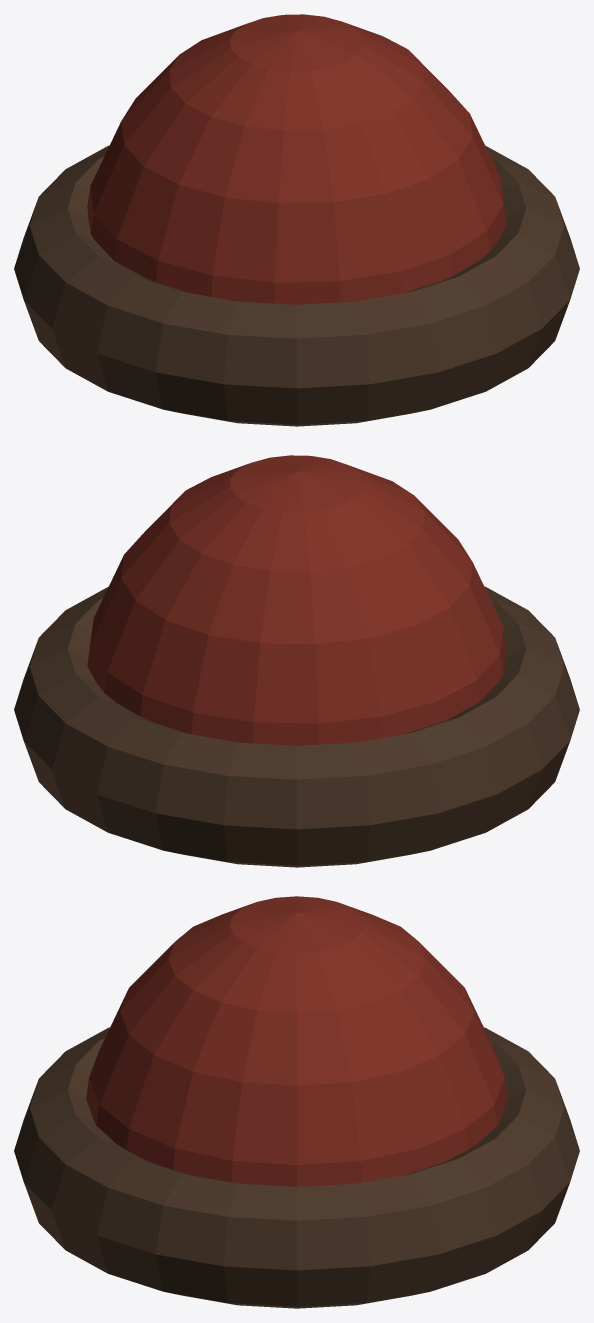
File: Fur_Cap.gltf
3 renders of one model, top to bottom at view 1: azimuth 30°, elevation 25°; view 2: azimuth 150°, elevation 25°; view 3: azimuth 270°, elevation 25°, orthographic.
Visible parts, largest first — view 1: Sphere; view 2: Sphere; view 3: Sphere.
Part boxes in pixels (x1=…): Sphere: x1=14, y1=14, x2=579, y2=426; Sphere: x1=14, y1=455, x2=579, y2=867; Sphere: x1=14, y1=896, x2=579, y2=1308.
Size of the model in its own units: 0.316 by 0.1839 by 0.316.
